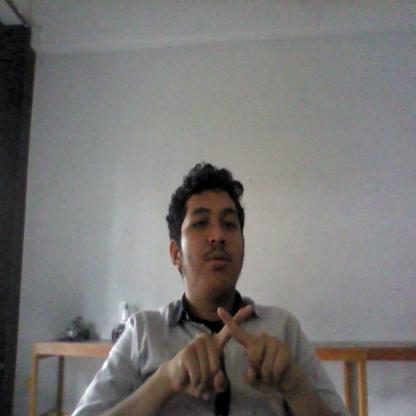X: (166, 303, 298, 399)
